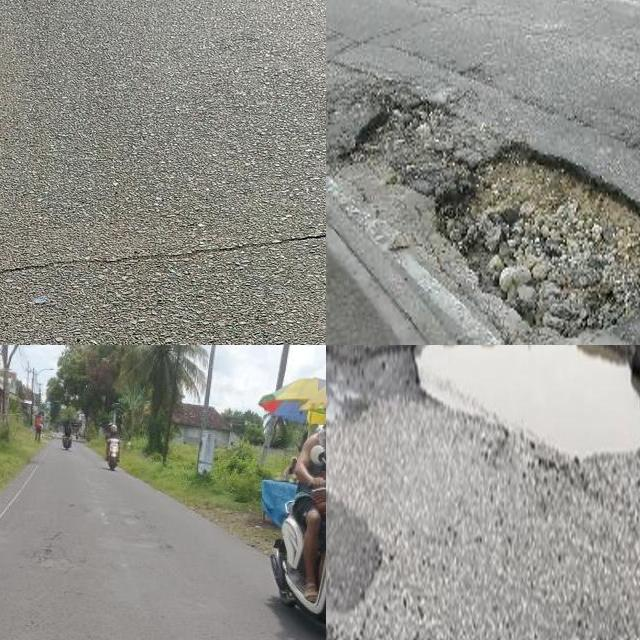Lubang: (441, 150, 640, 330), (413, 345, 640, 465), (337, 100, 448, 179)
Melintang: (0, 218, 326, 291)
